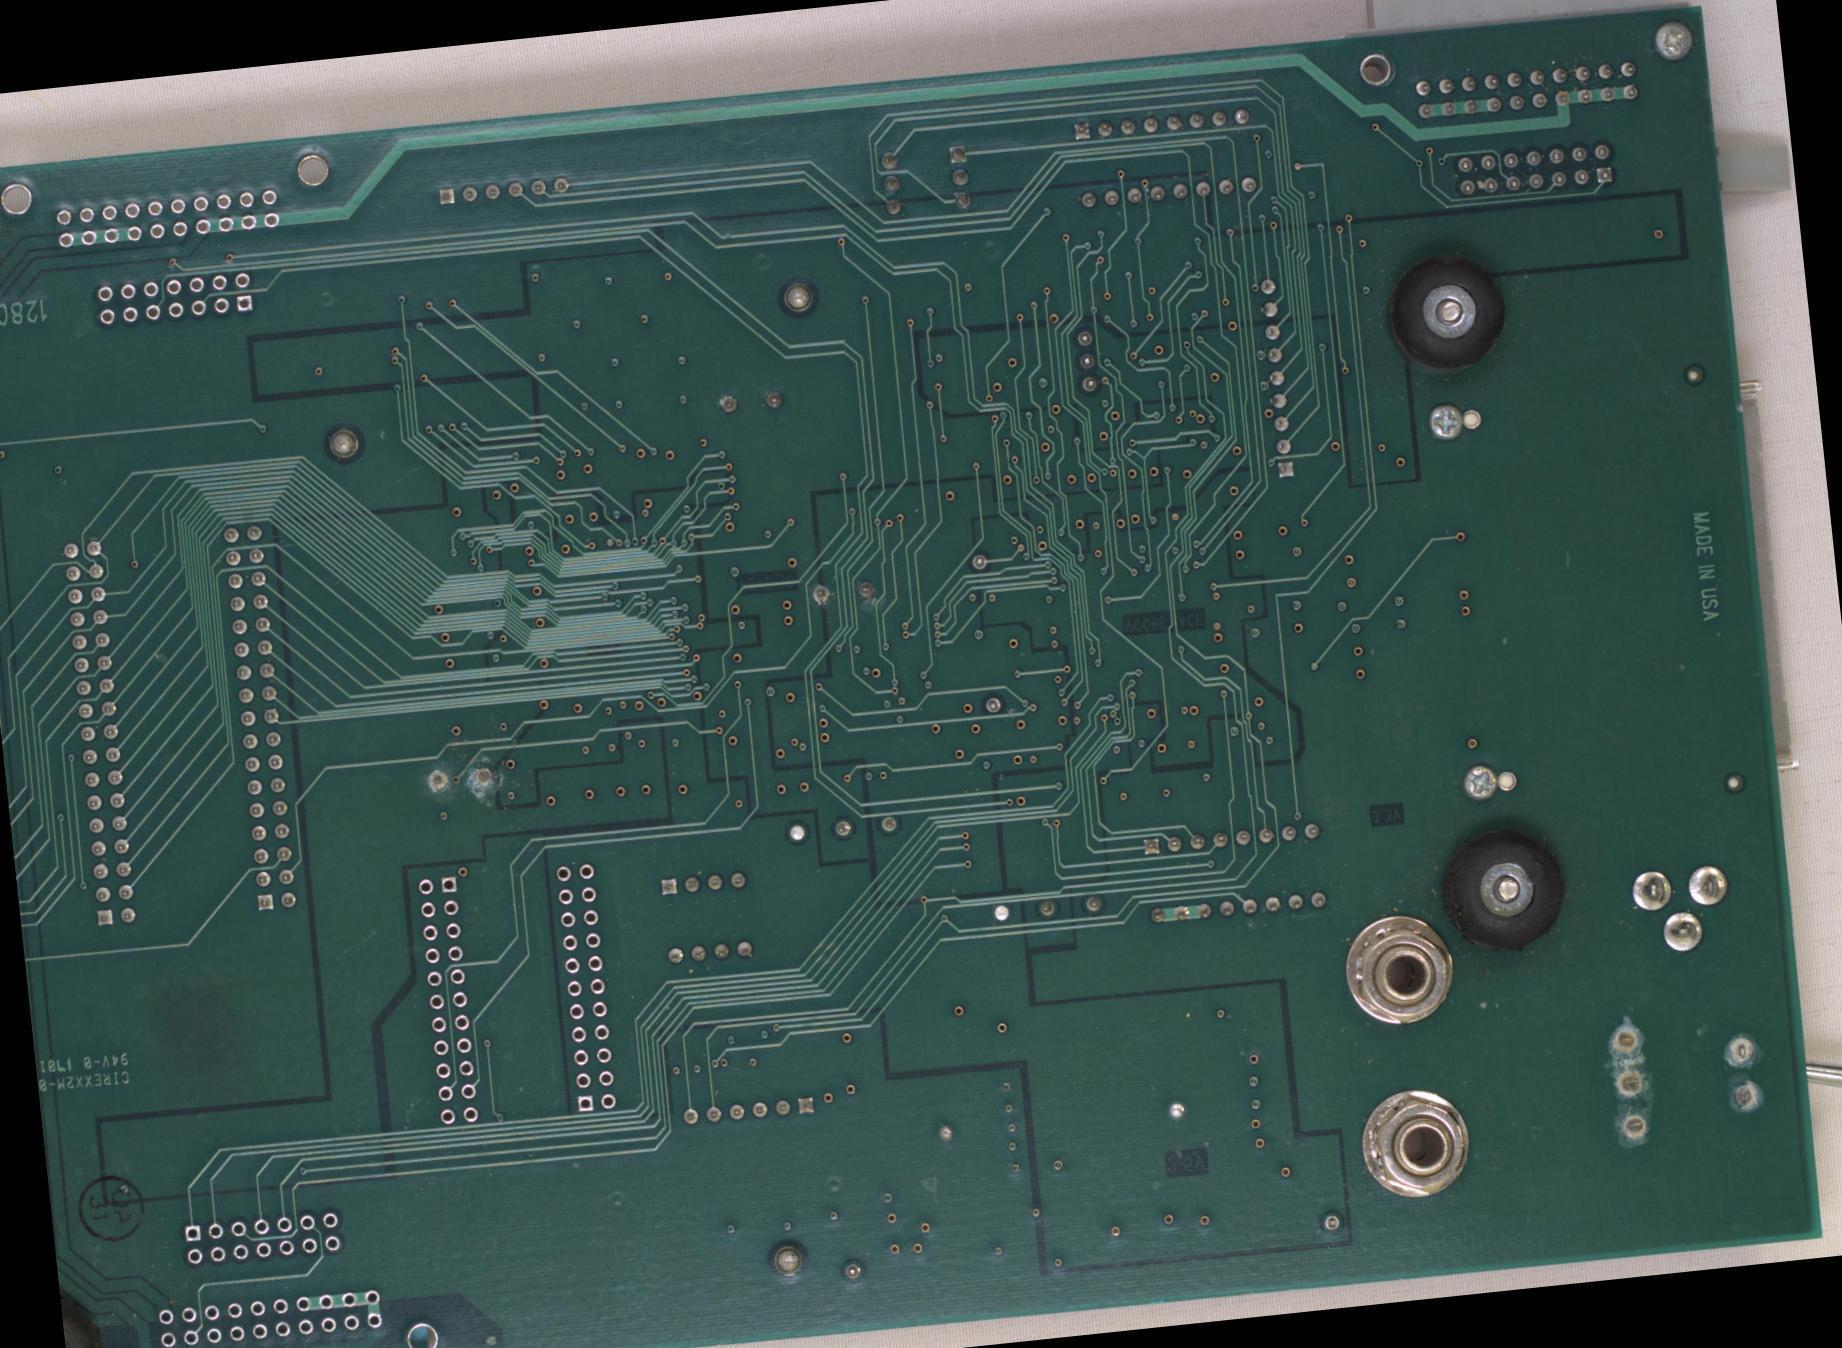Connector: (410, 869, 484, 1129), (550, 856, 622, 1117), (47, 180, 285, 255), (148, 1278, 387, 1347), (1348, 1082, 1481, 1203), (1336, 908, 1459, 1033), (176, 1202, 346, 1271), (89, 265, 257, 331)
Pins: (215, 515, 304, 917), (54, 536, 143, 929), (1061, 95, 1264, 224), (1603, 1003, 1769, 1152), (1135, 811, 1336, 933), (1407, 50, 1648, 130), (1621, 846, 1743, 968), (1447, 131, 1621, 204), (1250, 270, 1306, 486), (652, 866, 756, 968), (871, 138, 978, 220), (964, 544, 1009, 719), (678, 1088, 819, 1134), (779, 806, 908, 853), (433, 173, 571, 208), (988, 888, 1104, 926), (805, 569, 883, 615), (712, 381, 787, 423), (423, 759, 498, 797), (1070, 322, 1102, 400), (834, 1252, 868, 1286), (1314, 1202, 1344, 1238)
Switch: (1792, 1037, 1841, 1103)
